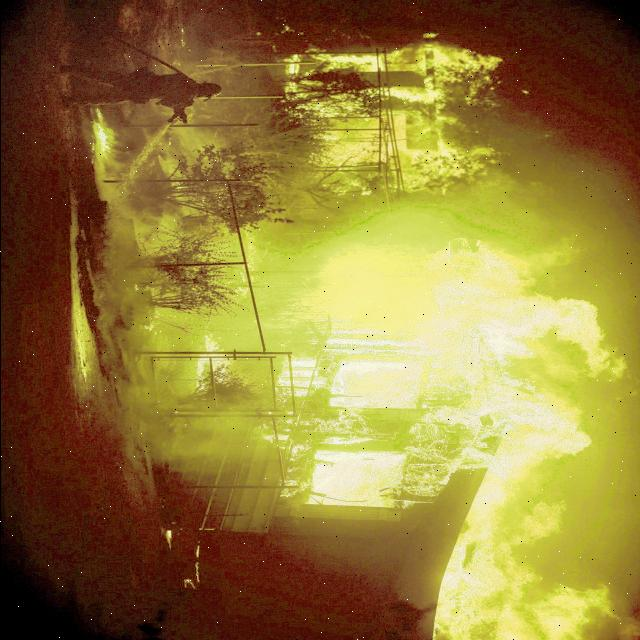api: (432, 259, 599, 471), (304, 38, 479, 206), (450, 484, 560, 596), (436, 591, 607, 639)
